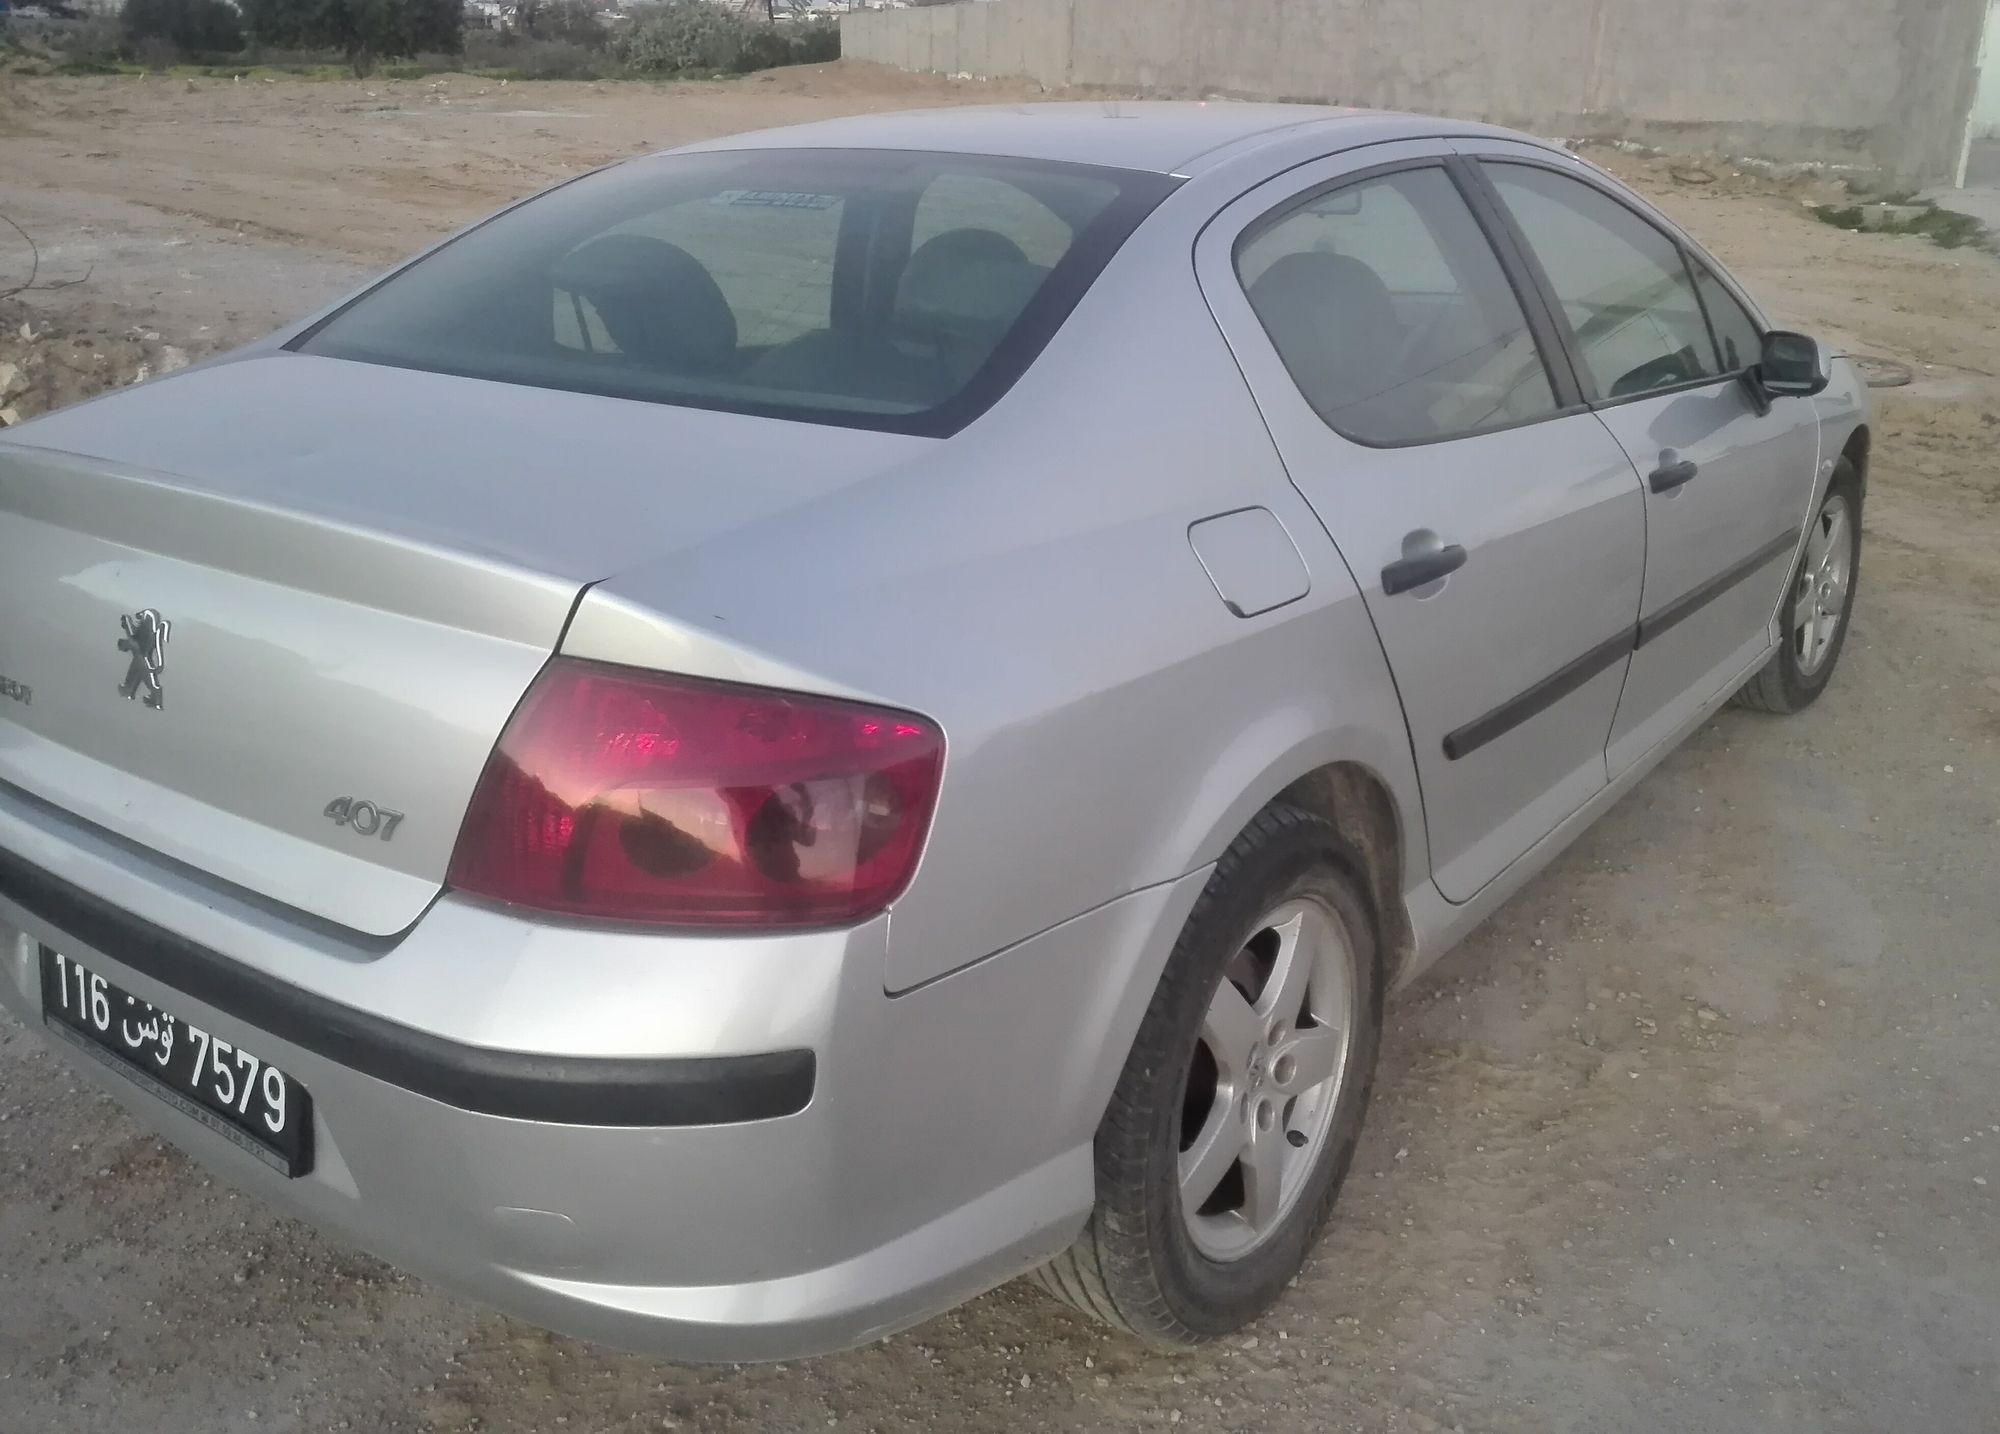LP: (38, 942, 293, 1160)
